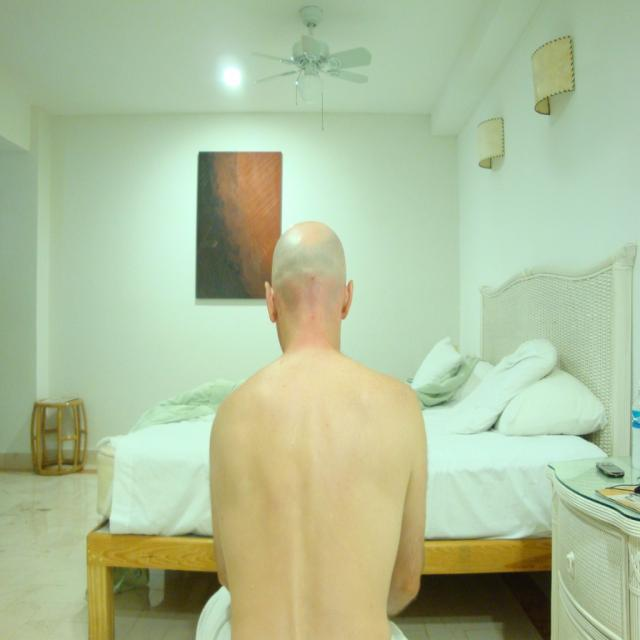bulb_on: (225, 70, 242, 90)
fan_off: (255, 6, 376, 101)
